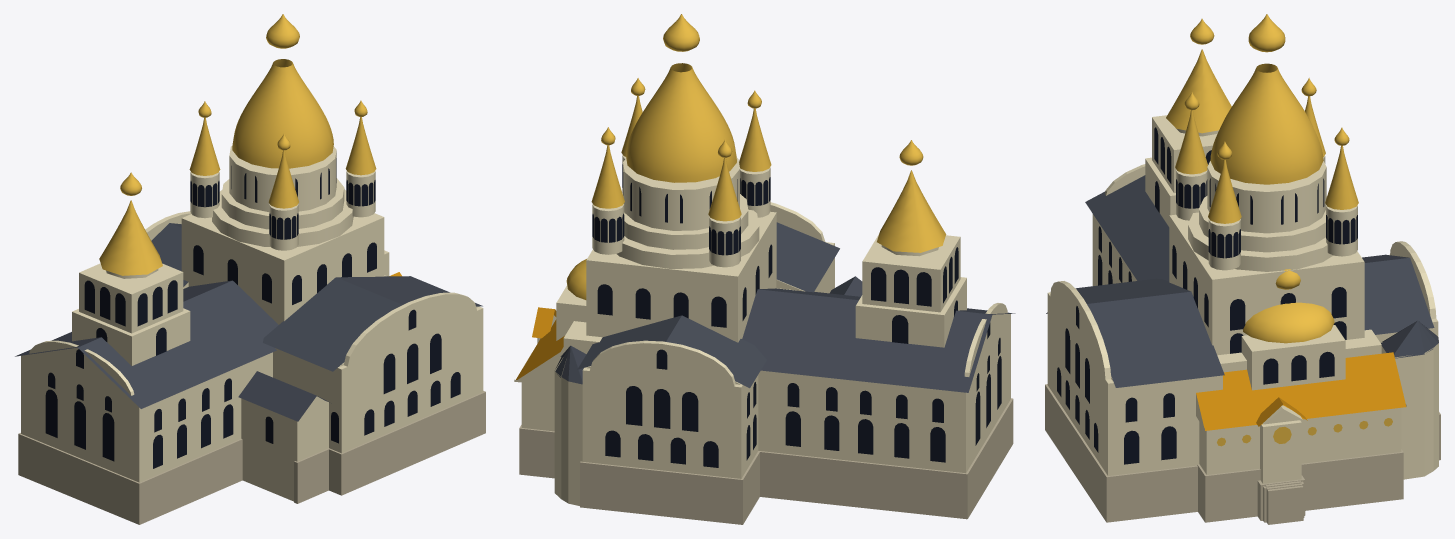
Rendered from pokrovsky_sobor.lod.glb.
The picture shows the model from 3 angles, left to right: view 1: azimuth 30°, elevation 25°; view 2: azimuth 150°, elevation 25°; view 3: azimuth 270°, elevation 25°; orthographic projection. The views are drawn at different scales.
Parts seen in each view (by area): view 1: pokrovsky_sobor_wall, pokrovsky_sobor_wall2, pokrovsky_sobor_stone, pokrovsky_sobor_roof, pokrovsky_sobor_glass; view 2: pokrovsky_sobor_wall, pokrovsky_sobor_wall2, pokrovsky_sobor_stone, pokrovsky_sobor_roof, pokrovsky_sobor_glass, pokrovsky_sobor_wall3; view 3: pokrovsky_sobor_wall, pokrovsky_sobor_wall2, pokrovsky_sobor_roof, pokrovsky_sobor_stone, pokrovsky_sobor_glass, pokrovsky_sobor_wall3.
Part boxes in pixels (<box>): pokrovsky_sobor_wall: <box>21,145,483,501</box>; pokrovsky_sobor_wall2: <box>15,223,482,421</box>; pokrovsky_sobor_stone: <box>18,391,485,524</box>; pokrovsky_sobor_roof: <box>99,14,376,275</box>; pokrovsky_sobor_glass: <box>45,158,460,468</box>; pokrovsky_sobor_wall: <box>514,154,1010,505</box>; pokrovsky_sobor_wall2: <box>555,222,1015,392</box>; pokrovsky_sobor_stone: <box>519,398,1013,524</box>; pokrovsky_sobor_roof: <box>566,14,946,299</box>; pokrovsky_sobor_glass: <box>592,164,1001,467</box>; pokrovsky_sobor_wall3: <box>516,307,564,379</box>; pokrovsky_sobor_wall: <box>1047,115,1438,483</box>; pokrovsky_sobor_wall2: <box>1046,175,1438,387</box>; pokrovsky_sobor_roof: <box>1166,14,1392,446</box>; pokrovsky_sobor_stone: <box>1045,384,1440,524</box>; pokrovsky_sobor_glass: <box>1057,127,1357,464</box>; pokrovsky_sobor_wall3: <box>1196,352,1406,430</box>.
Size of the model in its own units: 41.93 by 39.75 by 32.54.
